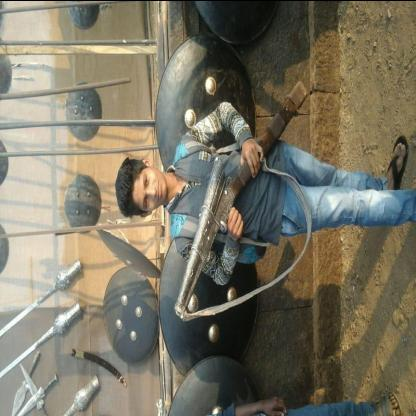rifle: (173, 78, 309, 324)
